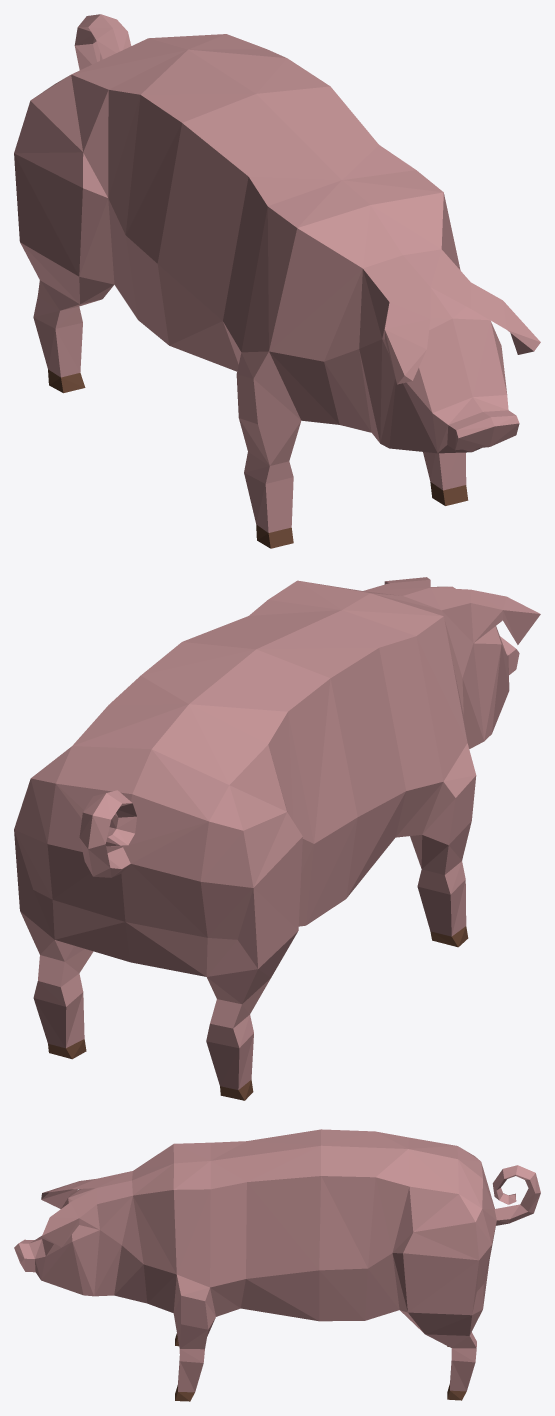
Rendered from pig.glb.
3 views of the same model, one above another, from view 1: azimuth 30°, elevation 25°; view 2: azimuth 150°, elevation 25°; view 3: azimuth 270°, elevation 25° (orthographic). The views are drawn at different scales.
Visible parts, largest first — view 1: Pig_baked; view 2: Pig_baked; view 3: Pig_baked.
Part boxes in pixels (box(x1,y1,x2,y2)): Pig_baked: box(14, 14, 540, 548); Pig_baked: box(14, 577, 540, 1100); Pig_baked: box(14, 1129, 540, 1401).
Size of the model in its own units: 3.3 by 4.59 by 9.78.
